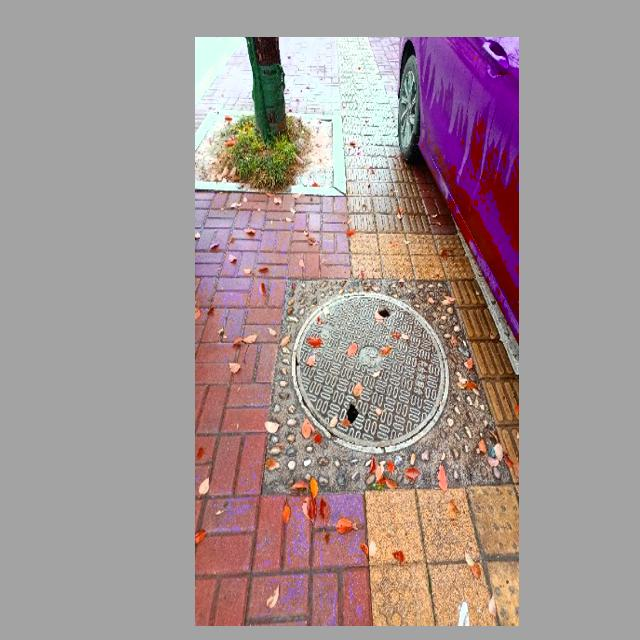good: (292, 292, 451, 452)
